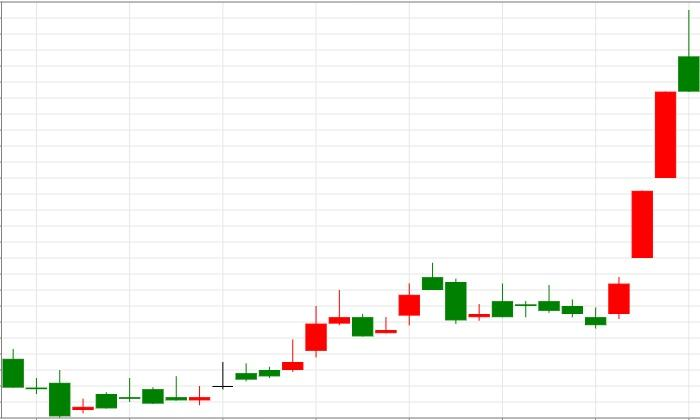three_white_soldiers_rise: (515, 91, 676, 329)
